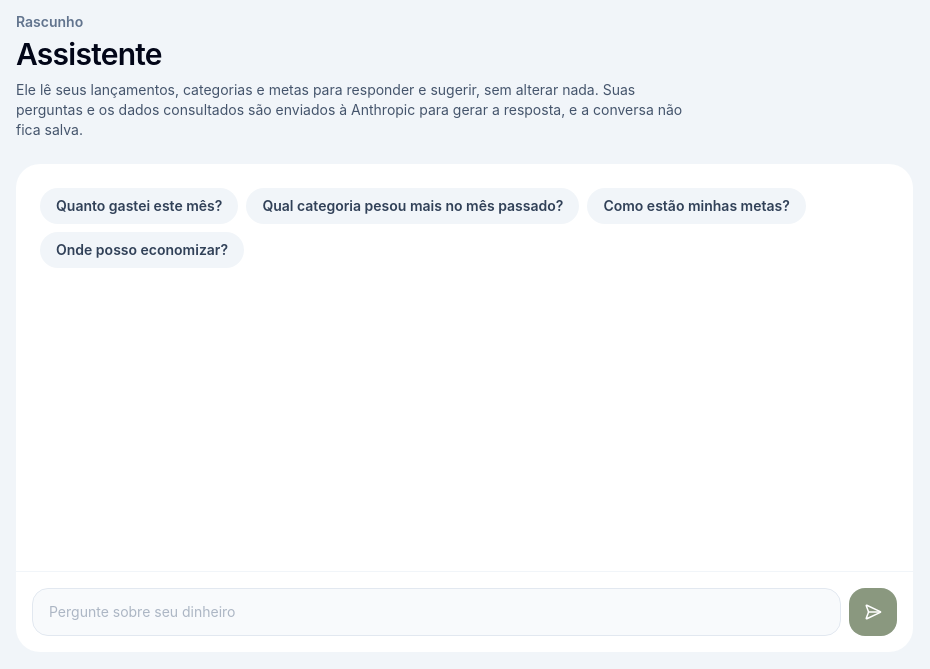
Test: AssistantPage › devolve o texto ao campo quando falha
Type "Quanto gastei?" into the field named "Pergunta para o assistente" at (436, 612), box [32,588,841,636]
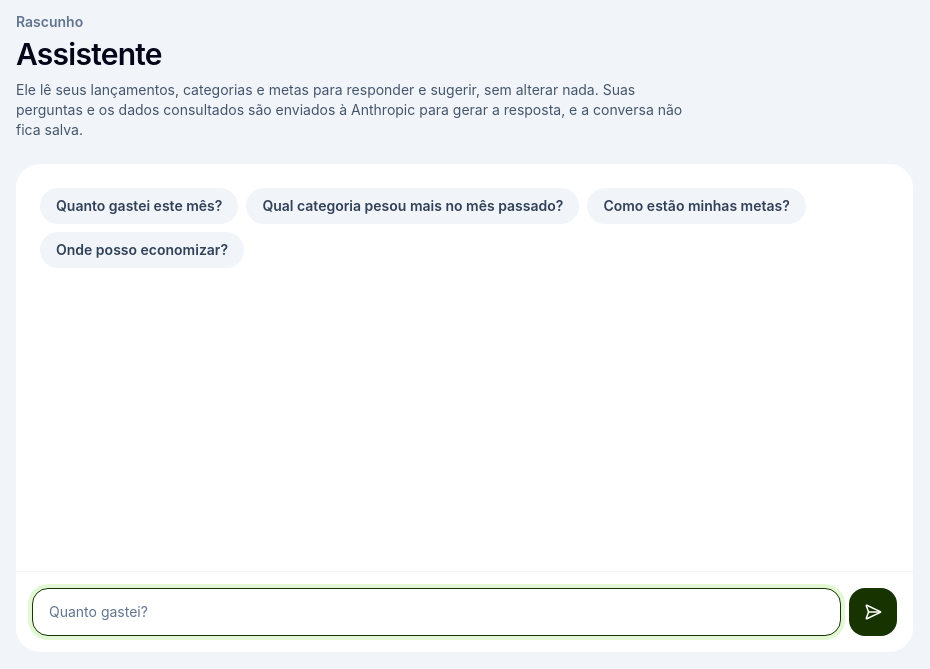
Click the button named "Enviar pergunta" at (873, 612), box [849,588,897,636]
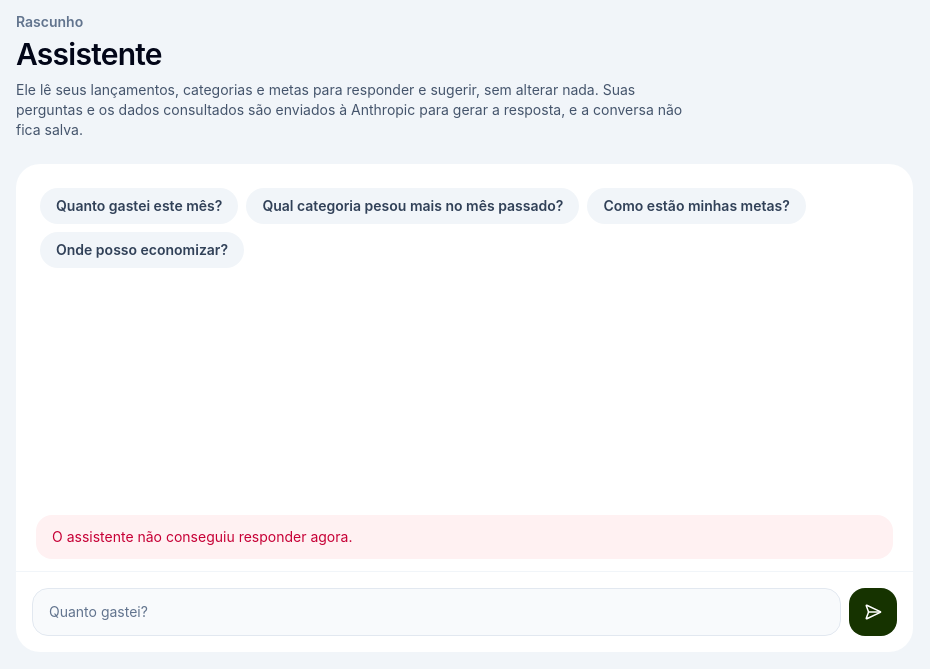
Expected: the message shows "não conseguiu responder", [52,528,352,545]
